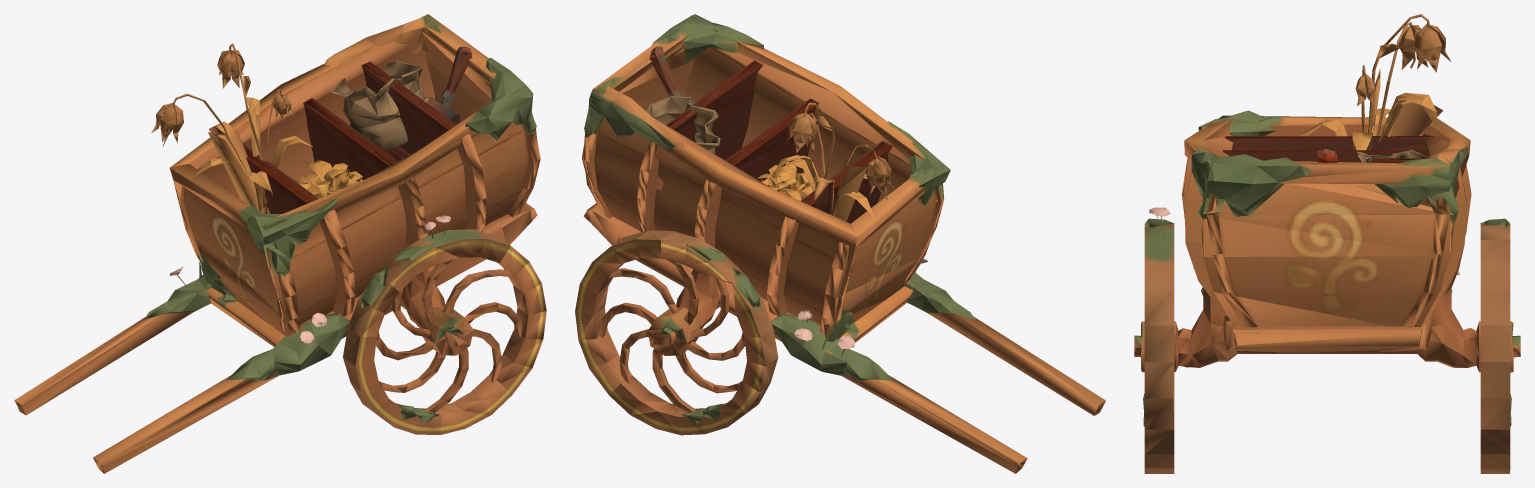
Rendered from charrette.glb.
3 renders of one model, left to right at view 1: azimuth 30°, elevation 25°; view 2: azimuth 150°, elevation 25°; view 3: azimuth 270°, elevation 25°, orthographic. The views are drawn at different scales.
Parts seen in each view (by area): view 1: Charrette; view 2: Charrette; view 3: Charrette.
Part boxes in pixels (box(x1,y1,x2,y2)): Charrette: box(14, 14, 546, 473); Charrette: box(575, 14, 1105, 473); Charrette: box(1134, 14, 1520, 473).
Size of the model in its own units: 2.82 by 2 by 1.8.
1 material, 1 textured.
